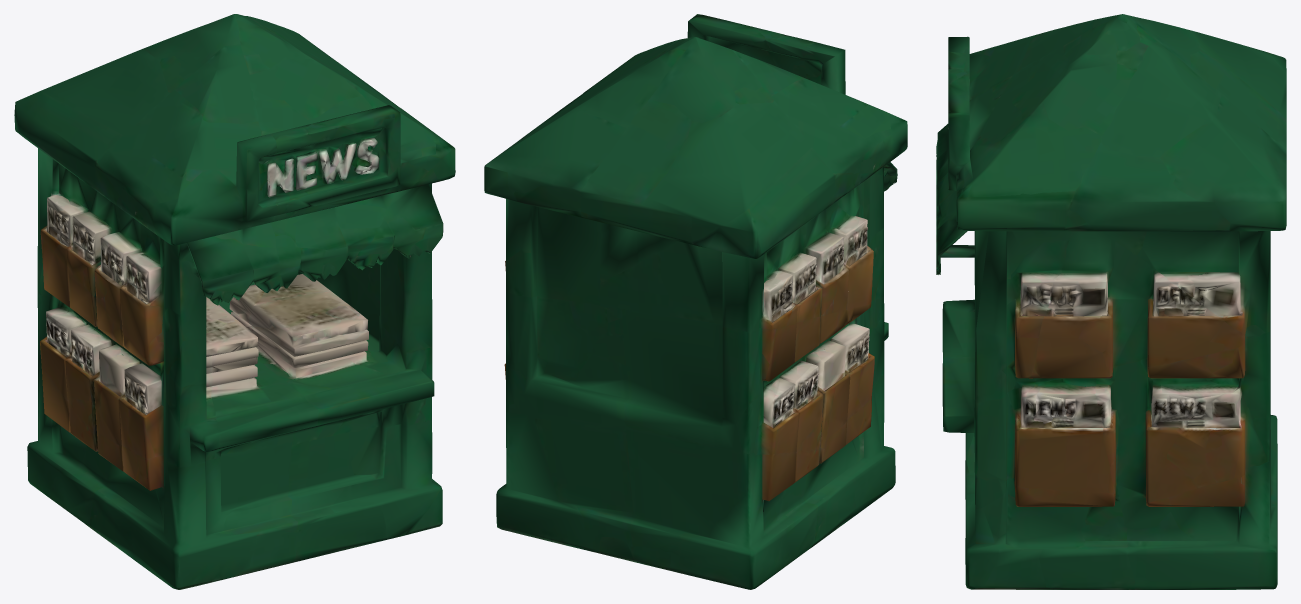
The model's file is kiosk.glb.
The picture shows the model from 3 angles, left to right: view 1: azimuth 30°, elevation 25°; view 2: azimuth 150°, elevation 25°; view 3: azimuth 270°, elevation 25°; orthographic projection. The views are drawn at different scales.
Parts seen in each view (by area): view 1: tripo_node_baa0ccbc-e02c-462f-bdc7-ea62ff40980c; view 2: tripo_node_baa0ccbc-e02c-462f-bdc7-ea62ff40980c; view 3: tripo_node_baa0ccbc-e02c-462f-bdc7-ea62ff40980c.
Part boxes in pixels (x1,y1,x2,y2): tripo_node_baa0ccbc-e02c-462f-bdc7-ea62ff40980c: (14,14,455,589); tripo_node_baa0ccbc-e02c-462f-bdc7-ea62ff40980c: (484,14,907,589); tripo_node_baa0ccbc-e02c-462f-bdc7-ea62ff40980c: (936,14,1286,589).
Size of the model in its own units: 0.594 by 0.9784 by 0.6105.
1 material, 1 textured.
